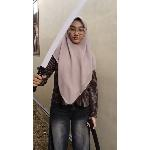Pedang: (33, 0, 91, 90)
